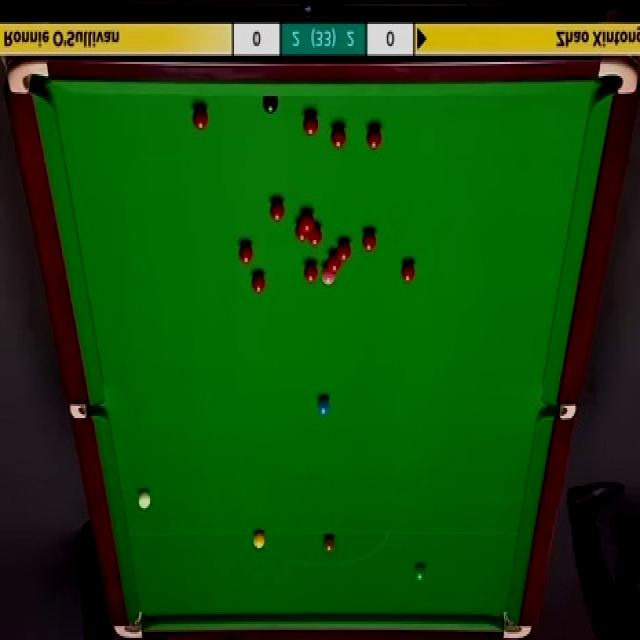black-ball: (262, 95, 279, 114)
blue-ball: (316, 395, 330, 420)
brown-ball: (323, 534, 335, 552)
green-ball: (412, 562, 427, 582)
pink-ball: (323, 264, 336, 286)
red-ball: (399, 255, 416, 284), (192, 106, 209, 131), (366, 125, 382, 151), (239, 239, 255, 263), (331, 124, 346, 149), (361, 228, 376, 253), (304, 112, 318, 137), (308, 222, 322, 246), (270, 199, 284, 222), (337, 239, 351, 262), (252, 272, 266, 294), (328, 252, 342, 274), (304, 262, 318, 281), (301, 210, 314, 230), (295, 222, 308, 242)
white-ball: (136, 488, 151, 512)
yellow-ball: (252, 531, 265, 551)
